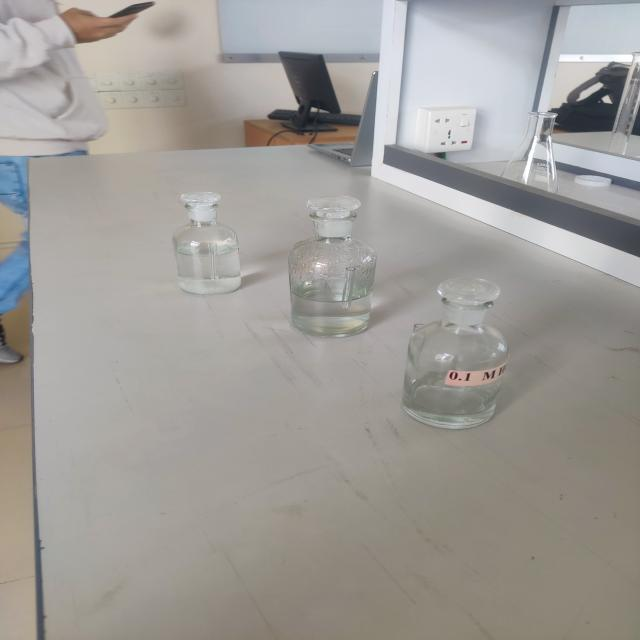Reagent_Bottle: (395, 261, 523, 441), (278, 178, 384, 352), (145, 176, 258, 314)
